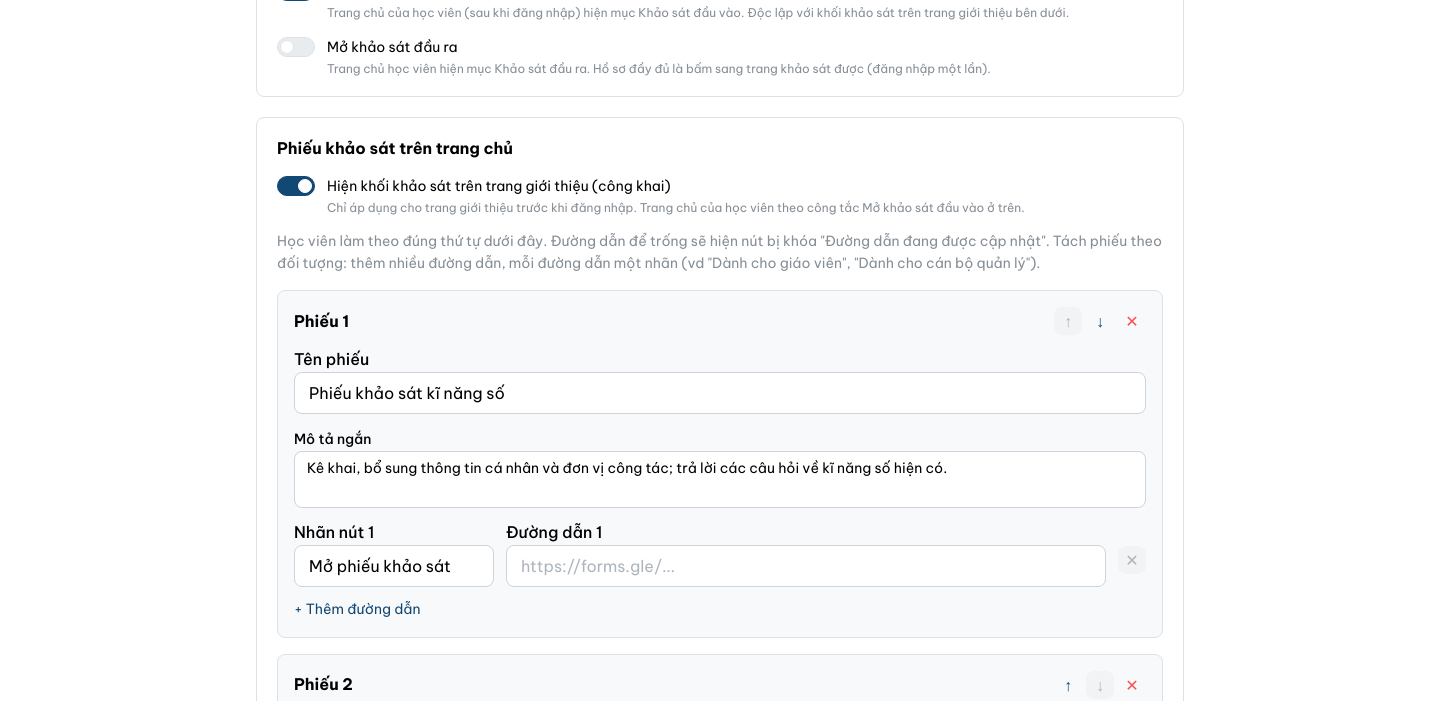
Admin — Cấu hình khảo sát › tên phiếu trống -> báo lỗi, không gửi PUT
The image size is (1440, 701).
(page scrolled)
Step 1. Clear the 1st field labelled "Tên phiếu" → point(720, 393), box top-left (294, 372), bottom-right (1146, 414)
(page scrolled)
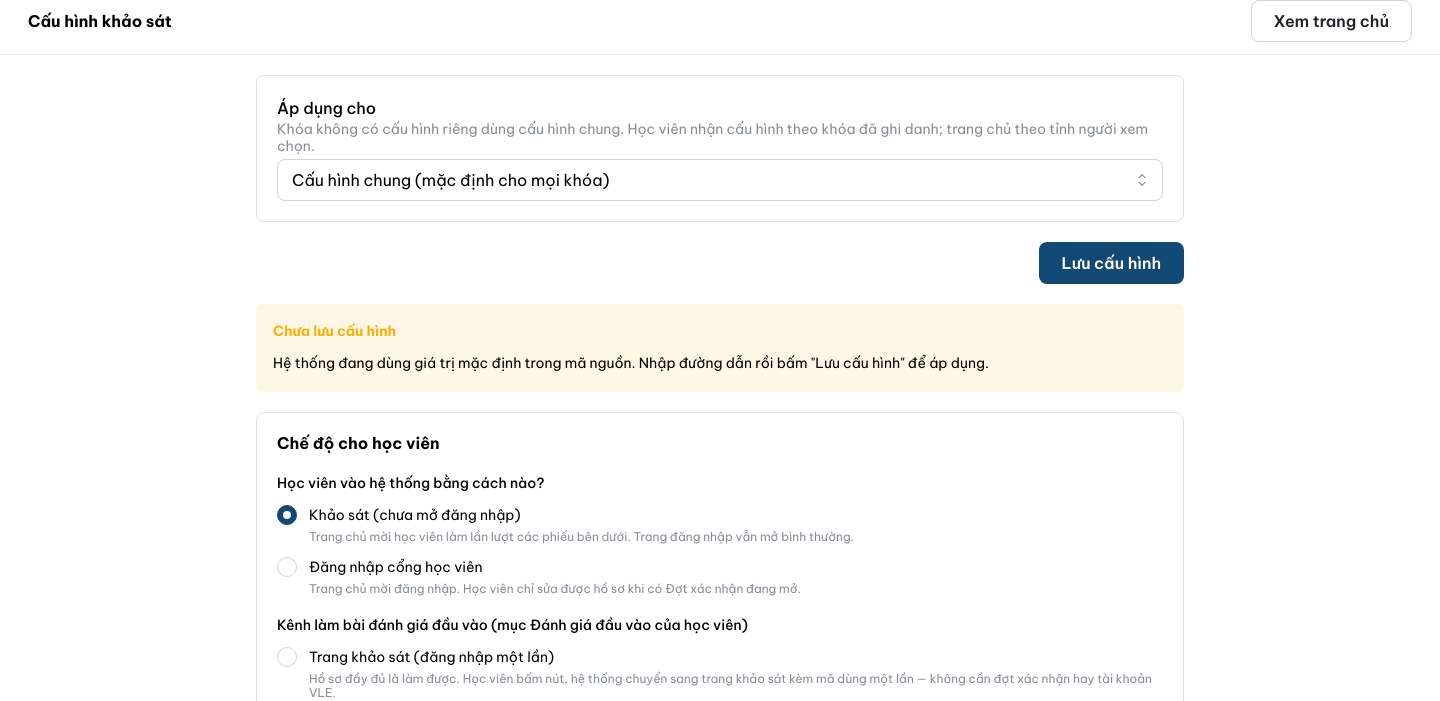
Step 2. Click the button "Lưu cấu hình" → point(1111, 263), box top-left (1039, 242), bottom-right (1184, 284)
(page scrolled)
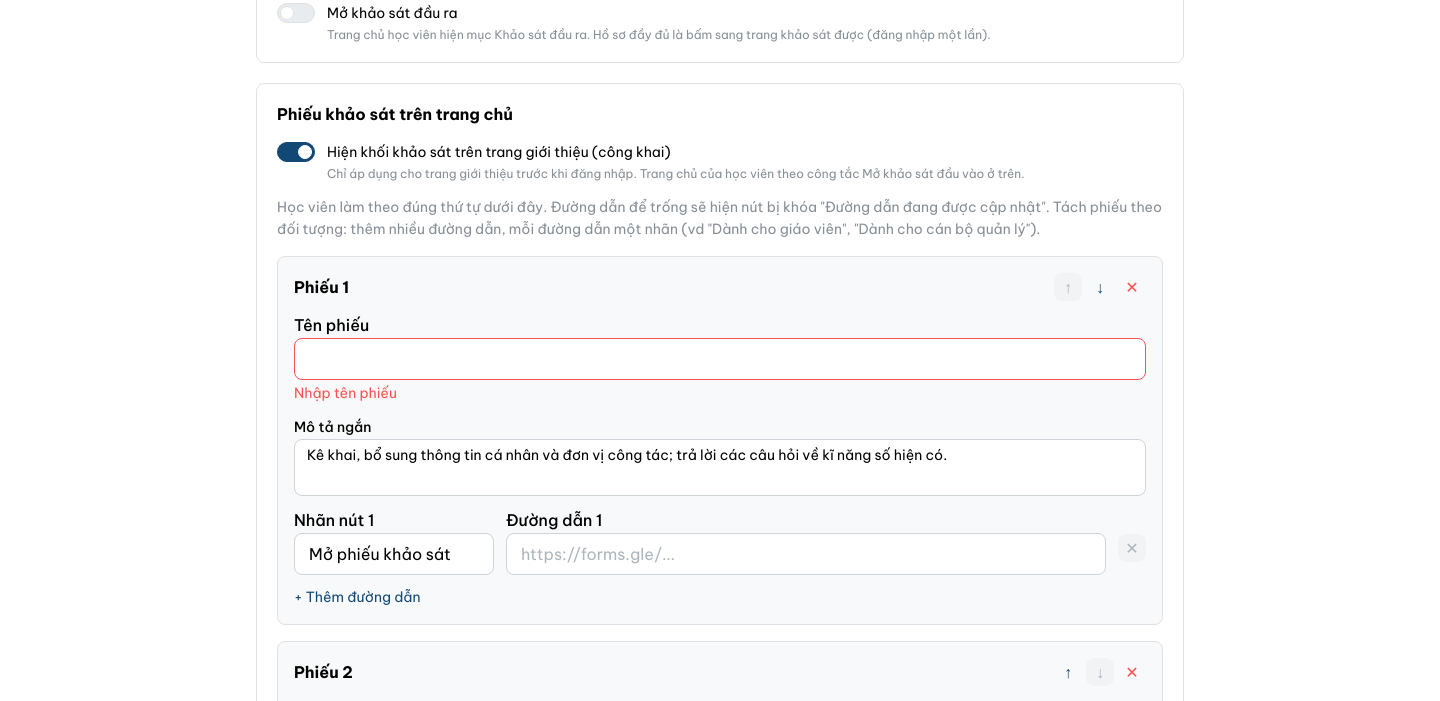
Check: the text "Nhập tên phiếu" is shown, box top-left (294, 384), bottom-right (397, 402)
